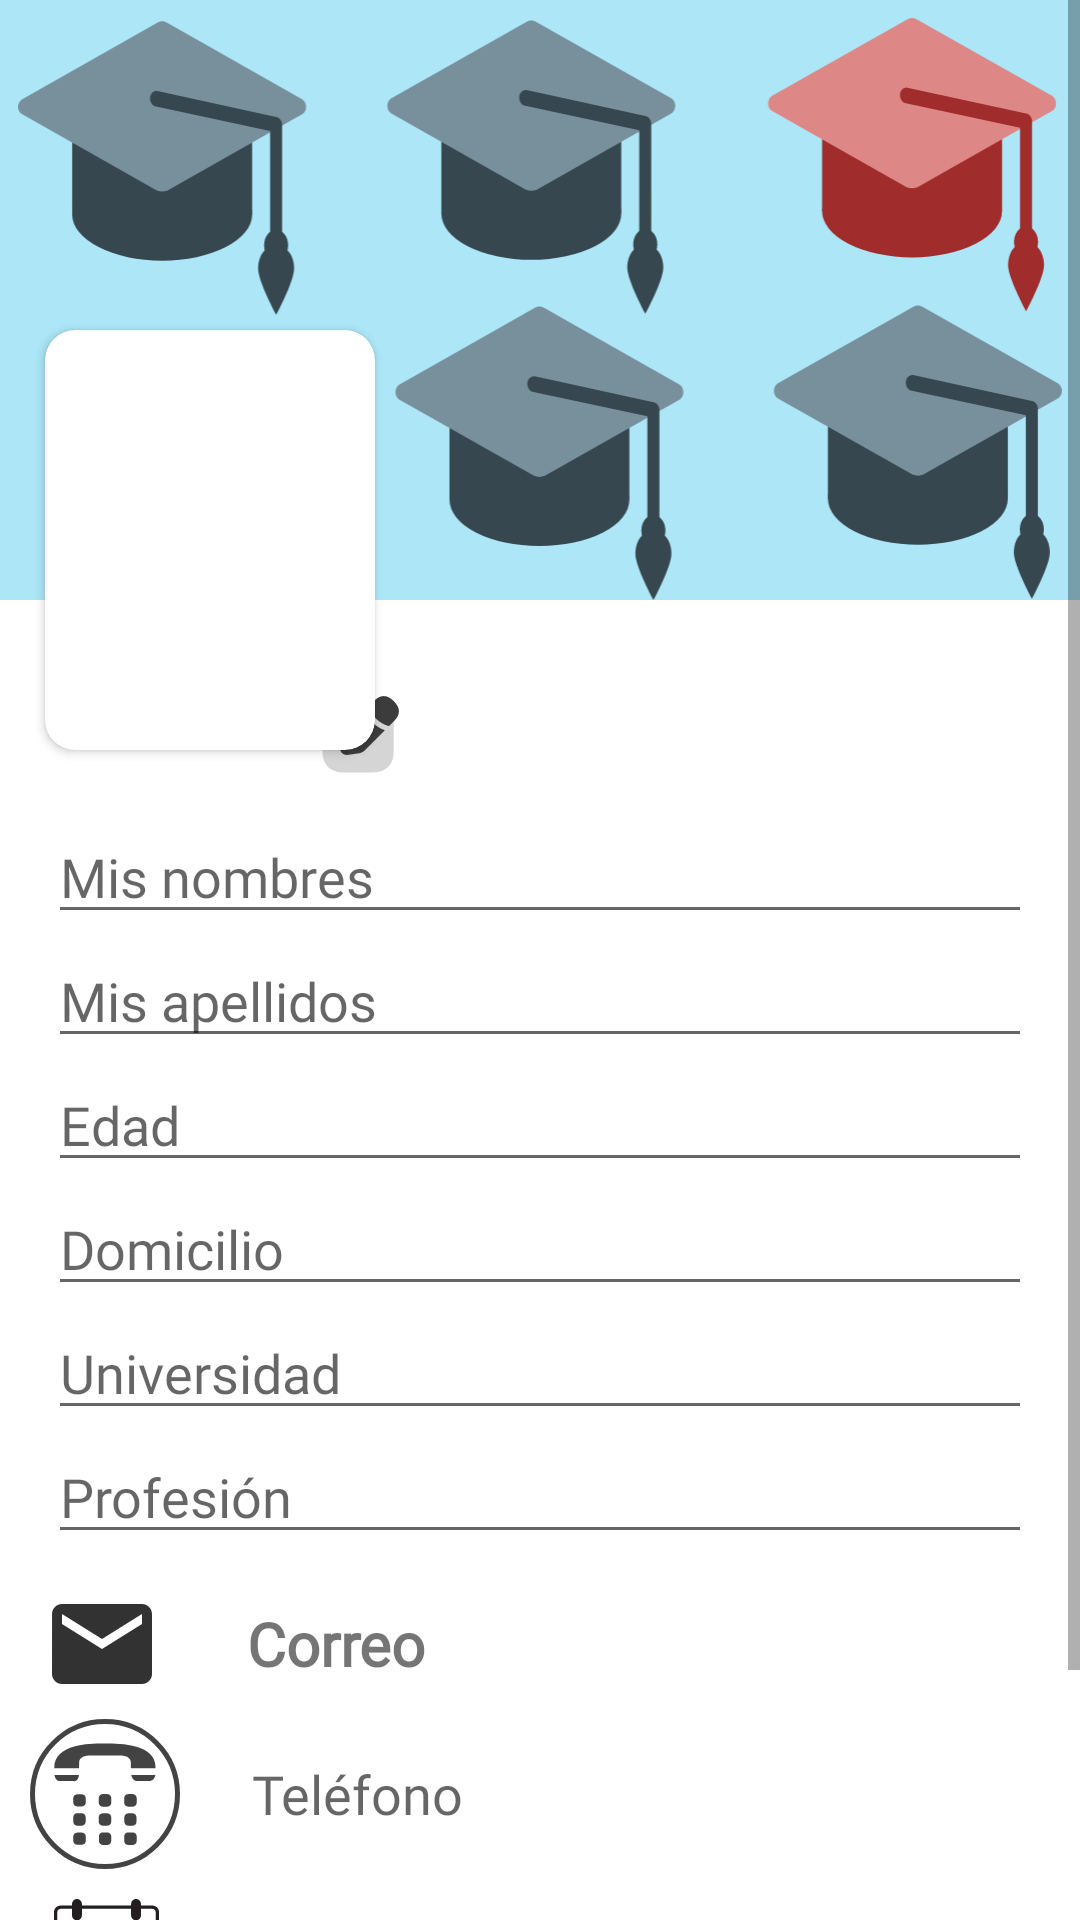

Where icons sit on this 1080*1920 app screen, as (x1, y1, x2, y2):
mail: (52, 1604, 152, 1684)
phone number: (54, 1743, 156, 1845)
